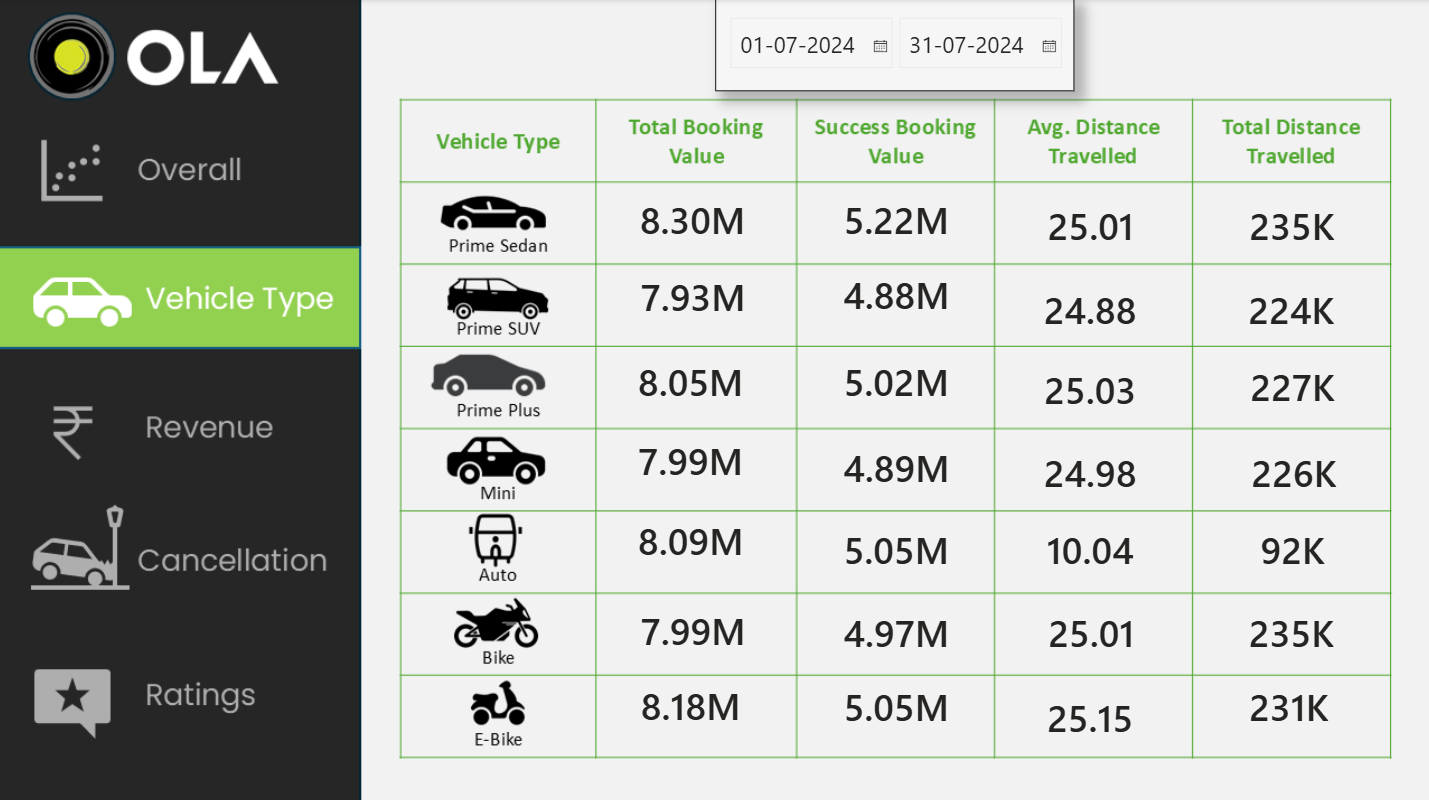

What the dashboard file says about the page in this screenshot:
{"tool":"powerbi","page":{"name":"vehicle type","canvas":[1280,720],"ordinal":1},"visuals":[{"type":"actionButton","box":[0,112.8,323.8,83.7],"z":0},{"type":"actionButton","box":[0,339.5,324.9,90.4],"z":1000},{"type":"actionButton","box":[0,445.5,324.9,90.4],"z":2000},{"type":"actionButton","box":[0,582.9,324.9,90.4],"z":3000},{"type":"cardVisual","fields":{"Data":["Sum(July (2).Booking_Value)"]},"box":[537.9,163.3,163.3,65.9],"z":4000},{"type":"cardVisual","fields":{"Data":["Sum(July (2).Booking_Value)"]},"box":[537.9,230.5,164.7,67.2],"z":5000},{"type":"cardVisual","fields":{"Data":["Sum(July (2).Booking_Value)"]},"box":[536.5,306,164.7,67.2],"z":6000},{"type":"cardVisual","fields":{"Data":["Sum(July (2).Booking_Value)"]},"box":[536.5,373.2,164.7,74.1],"z":7000},{"type":"cardVisual","fields":{"Data":["Sum(July (2).Booking_Value)"]},"box":[536.5,595.5,164.7,67.2],"z":8000},{"type":"cardVisual","fields":{"Data":["Sum(July (2).Booking_Value)"]},"box":[537.9,528.3,164.7,67.2],"z":9000},{"type":"cardVisual","fields":{"Data":["Sum(July (2).Booking_Value)"]},"box":[536.5,447.3,164.7,67.2],"z":10000},{"type":"cardVisual","fields":{"Data":["Sum(July (2).Booking_Value)"]},"box":[720.4,163.3,163.3,65.9],"z":11000},{"type":"cardVisual","fields":{"Data":["Sum(July (2).Booking_Value)"]},"box":[720.4,307.4,163.3,65.9],"z":12000},{"type":"cardVisual","fields":{"Data":["Sum(July (2).Booking_Value)"]},"box":[720.4,384.2,163.3,65.9],"z":13000},{"type":"cardVisual","fields":{"Data":["Sum(July (2).Booking_Value)"]},"box":[720.4,458.3,163.3,65.9],"z":14000},{"type":"cardVisual","fields":{"Data":["Sum(July (2).Booking_Value)"]},"box":[720.4,531,163.3,65.9],"z":15000},{"type":"cardVisual","fields":{"Data":["Sum(July (2).Booking_Value)"]},"box":[720.4,596.9,163.3,65.9],"z":16000},{"type":"cardVisual","fields":{"Data":["Sum(July (2).Booking_Value)"]},"box":[720.4,230.5,163.3,65.9],"z":17000},{"type":"cardVisual","fields":{"Data":["Avg(July (2).Ride_Distance)"]},"box":[893.3,163.3,164.7,74.1],"z":18000},{"type":"cardVisual","fields":{"Data":["Avg(July (2).Ride_Distance)"]},"box":[893.3,308.7,163.3,75.5],"z":19000},{"type":"cardVisual","fields":{"Data":["Avg(July (2).Ride_Distance)"]},"box":[889.2,384.2,172.9,74.1],"z":20000},{"type":"cardVisual","fields":{"Data":["Avg(July (2).Ride_Distance)"]},"box":[893.3,458.3,163.3,65.9],"z":21000},{"type":"cardVisual","fields":{"Data":["Avg(July (2).Ride_Distance)"]},"box":[894.7,531,163.3,65.9],"z":22000},{"type":"cardVisual","fields":{"Data":["Avg(July (2).Ride_Distance)"]},"box":[893.3,607.9,163.3,65.9],"z":23000},{"type":"cardVisual","fields":{"Data":["Avg(July (2).Ride_Distance)"]},"box":[893.3,237.4,163.3,76.8],"z":24000},{"type":"cardVisual","fields":{"Data":["Sum(July (2).Ride_Distance)"]},"box":[1073.1,163.3,164.7,74.1],"z":25000},{"type":"cardVisual","fields":{"Data":["Sum(July (2).Ride_Distance)"]},"box":[1073.1,237.4,163.3,76.8],"z":26000},{"type":"cardVisual","fields":{"Data":["Sum(July (2).Ride_Distance)"]},"box":[1074.4,306,163.3,75.5],"z":27000},{"type":"cardVisual","fields":{"Data":["Sum(July (2).Ride_Distance)"]},"box":[1070.3,384.2,172.9,74.1],"z":28000},{"type":"cardVisual","fields":{"Data":["Sum(July (2).Ride_Distance)"]},"box":[1074.4,458.3,163.3,65.9],"z":29000},{"type":"cardVisual","fields":{"Data":["Sum(July (2).Ride_Distance)"]},"box":[1073.1,531,163.3,65.9],"z":30000},{"type":"cardVisual","fields":{"Data":["Sum(July (2).Ride_Distance)"]},"box":[1070.3,596.9,163.3,65.9],"z":31000},{"type":"slicer","title":"Date","fields":{"Values":["July (2).Date"]},"box":[639.5,0,321.1,82.3],"z":31001}]}

Visuals, with their boxes on the page's 1280x720 design canvas (x1, y1, x2, y2). These are canvas units, not pixel positions in the 1429x800 screenshot, which may show the page scaled, cropped or inside an application window:
actionButton: (x1=0, y1=113, x2=324, y2=196)
actionButton: (x1=0, y1=340, x2=325, y2=430)
actionButton: (x1=0, y1=446, x2=325, y2=536)
actionButton: (x1=0, y1=583, x2=325, y2=673)
cardVisual - Sum(July (2).Booking_Value): (x1=538, y1=163, x2=701, y2=229)
cardVisual - Sum(July (2).Booking_Value): (x1=538, y1=230, x2=703, y2=298)
cardVisual - Sum(July (2).Booking_Value): (x1=536, y1=306, x2=701, y2=373)
cardVisual - Sum(July (2).Booking_Value): (x1=536, y1=373, x2=701, y2=447)
cardVisual - Sum(July (2).Booking_Value): (x1=536, y1=596, x2=701, y2=663)
cardVisual - Sum(July (2).Booking_Value): (x1=538, y1=528, x2=703, y2=596)
cardVisual - Sum(July (2).Booking_Value): (x1=536, y1=447, x2=701, y2=514)
cardVisual - Sum(July (2).Booking_Value): (x1=720, y1=163, x2=884, y2=229)
cardVisual - Sum(July (2).Booking_Value): (x1=720, y1=307, x2=884, y2=373)
cardVisual - Sum(July (2).Booking_Value): (x1=720, y1=384, x2=884, y2=450)
cardVisual - Sum(July (2).Booking_Value): (x1=720, y1=458, x2=884, y2=524)
cardVisual - Sum(July (2).Booking_Value): (x1=720, y1=531, x2=884, y2=597)
cardVisual - Sum(July (2).Booking_Value): (x1=720, y1=597, x2=884, y2=663)
cardVisual - Sum(July (2).Booking_Value): (x1=720, y1=230, x2=884, y2=296)
cardVisual - Avg(July (2).Ride_Distance): (x1=893, y1=163, x2=1058, y2=237)
cardVisual - Avg(July (2).Ride_Distance): (x1=893, y1=309, x2=1057, y2=384)
cardVisual - Avg(July (2).Ride_Distance): (x1=889, y1=384, x2=1062, y2=458)
cardVisual - Avg(July (2).Ride_Distance): (x1=893, y1=458, x2=1057, y2=524)
cardVisual - Avg(July (2).Ride_Distance): (x1=895, y1=531, x2=1058, y2=597)
cardVisual - Avg(July (2).Ride_Distance): (x1=893, y1=608, x2=1057, y2=674)
cardVisual - Avg(July (2).Ride_Distance): (x1=893, y1=237, x2=1057, y2=314)
cardVisual - Sum(July (2).Ride_Distance): (x1=1073, y1=163, x2=1238, y2=237)
cardVisual - Sum(July (2).Ride_Distance): (x1=1073, y1=237, x2=1236, y2=314)
cardVisual - Sum(July (2).Ride_Distance): (x1=1074, y1=306, x2=1238, y2=382)
cardVisual - Sum(July (2).Ride_Distance): (x1=1070, y1=384, x2=1243, y2=458)
cardVisual - Sum(July (2).Ride_Distance): (x1=1074, y1=458, x2=1238, y2=524)
cardVisual - Sum(July (2).Ride_Distance): (x1=1073, y1=531, x2=1236, y2=597)
cardVisual - Sum(July (2).Ride_Distance): (x1=1070, y1=597, x2=1234, y2=663)
"Date" slicer: (x1=640, y1=0, x2=961, y2=82)
